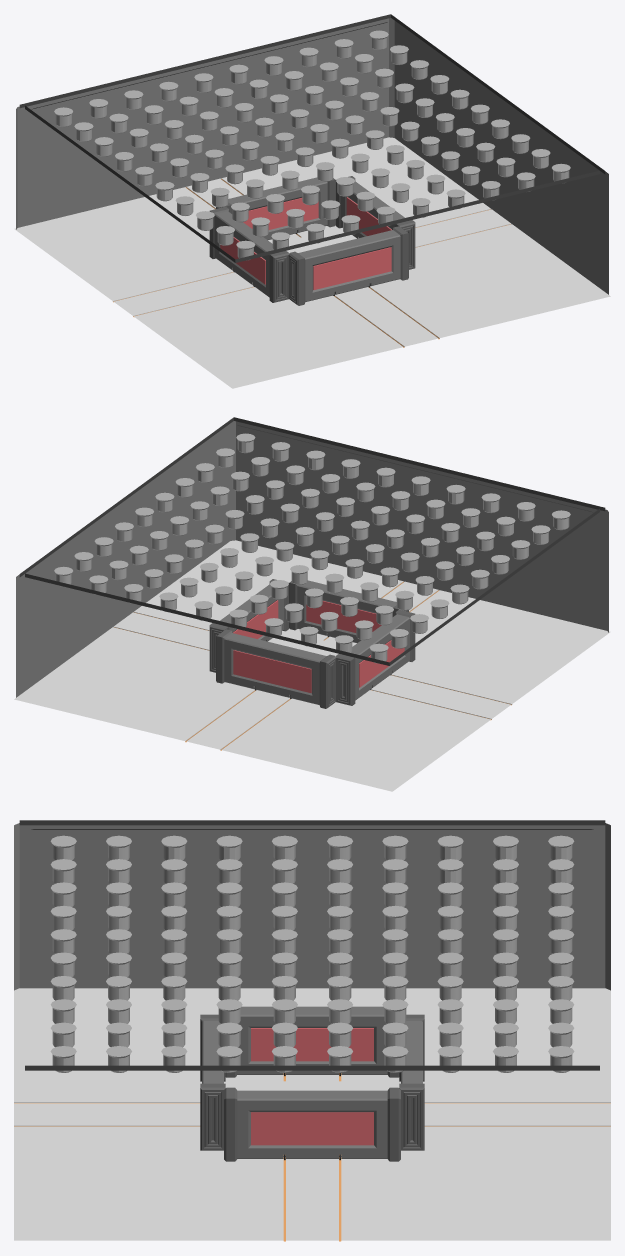
File: gunmanmap.glb
3 views of the same model, one above another, from view 1: azimuth 30°, elevation 25°; view 2: azimuth 150°, elevation 25°; view 3: azimuth 270°, elevation 25° (orthographic). The views are drawn at different scales.
Visible parts, largest first — view 1: Plane-col, Cube-col, Cylinder, wall.002-col, wall.001-col, wall.003-col, wall-col; view 2: Plane-col, Cube-col, Cylinder, wall.003-col, wall.001-col, wall.002-col, wall-col; view 3: Plane-col, Cube-col, Cylinder, wall-col, wall.001-col, wall.002-col, wall.003-col.
Part boxes in pixels (x1,y1,x2,y2): Plane-col: [14, 137, 610, 388]; Cube-col: [16, 14, 608, 294]; Cylinder: [54, 30, 570, 260]; wall.002-col: [288, 226, 408, 305]; wall.001-col: [209, 206, 288, 302]; wall.003-col: [216, 177, 335, 239]; wall-col: [336, 176, 415, 269]; Plane-col: [14, 540, 610, 791]; Cube-col: [16, 417, 608, 697]; Cylinder: [54, 433, 570, 663]; wall.003-col: [216, 629, 336, 708]; wall.001-col: [336, 609, 415, 705]; wall.002-col: [289, 580, 408, 642]; wall-col: [209, 579, 288, 672]; Plane-col: [14, 988, 610, 1241]; Cube-col: [14, 820, 610, 1070]; Cylinder: [50, 835, 574, 1072]; wall-col: [224, 1087, 400, 1161]; wall.001-col: [225, 1006, 399, 1077]; wall.002-col: [200, 1014, 225, 1150]; wall.003-col: [399, 1014, 424, 1150].
Size of the model in its own units: 216 by 68.55 by 216.
